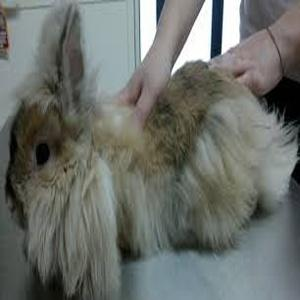rabbit: (6, 3, 297, 299)
